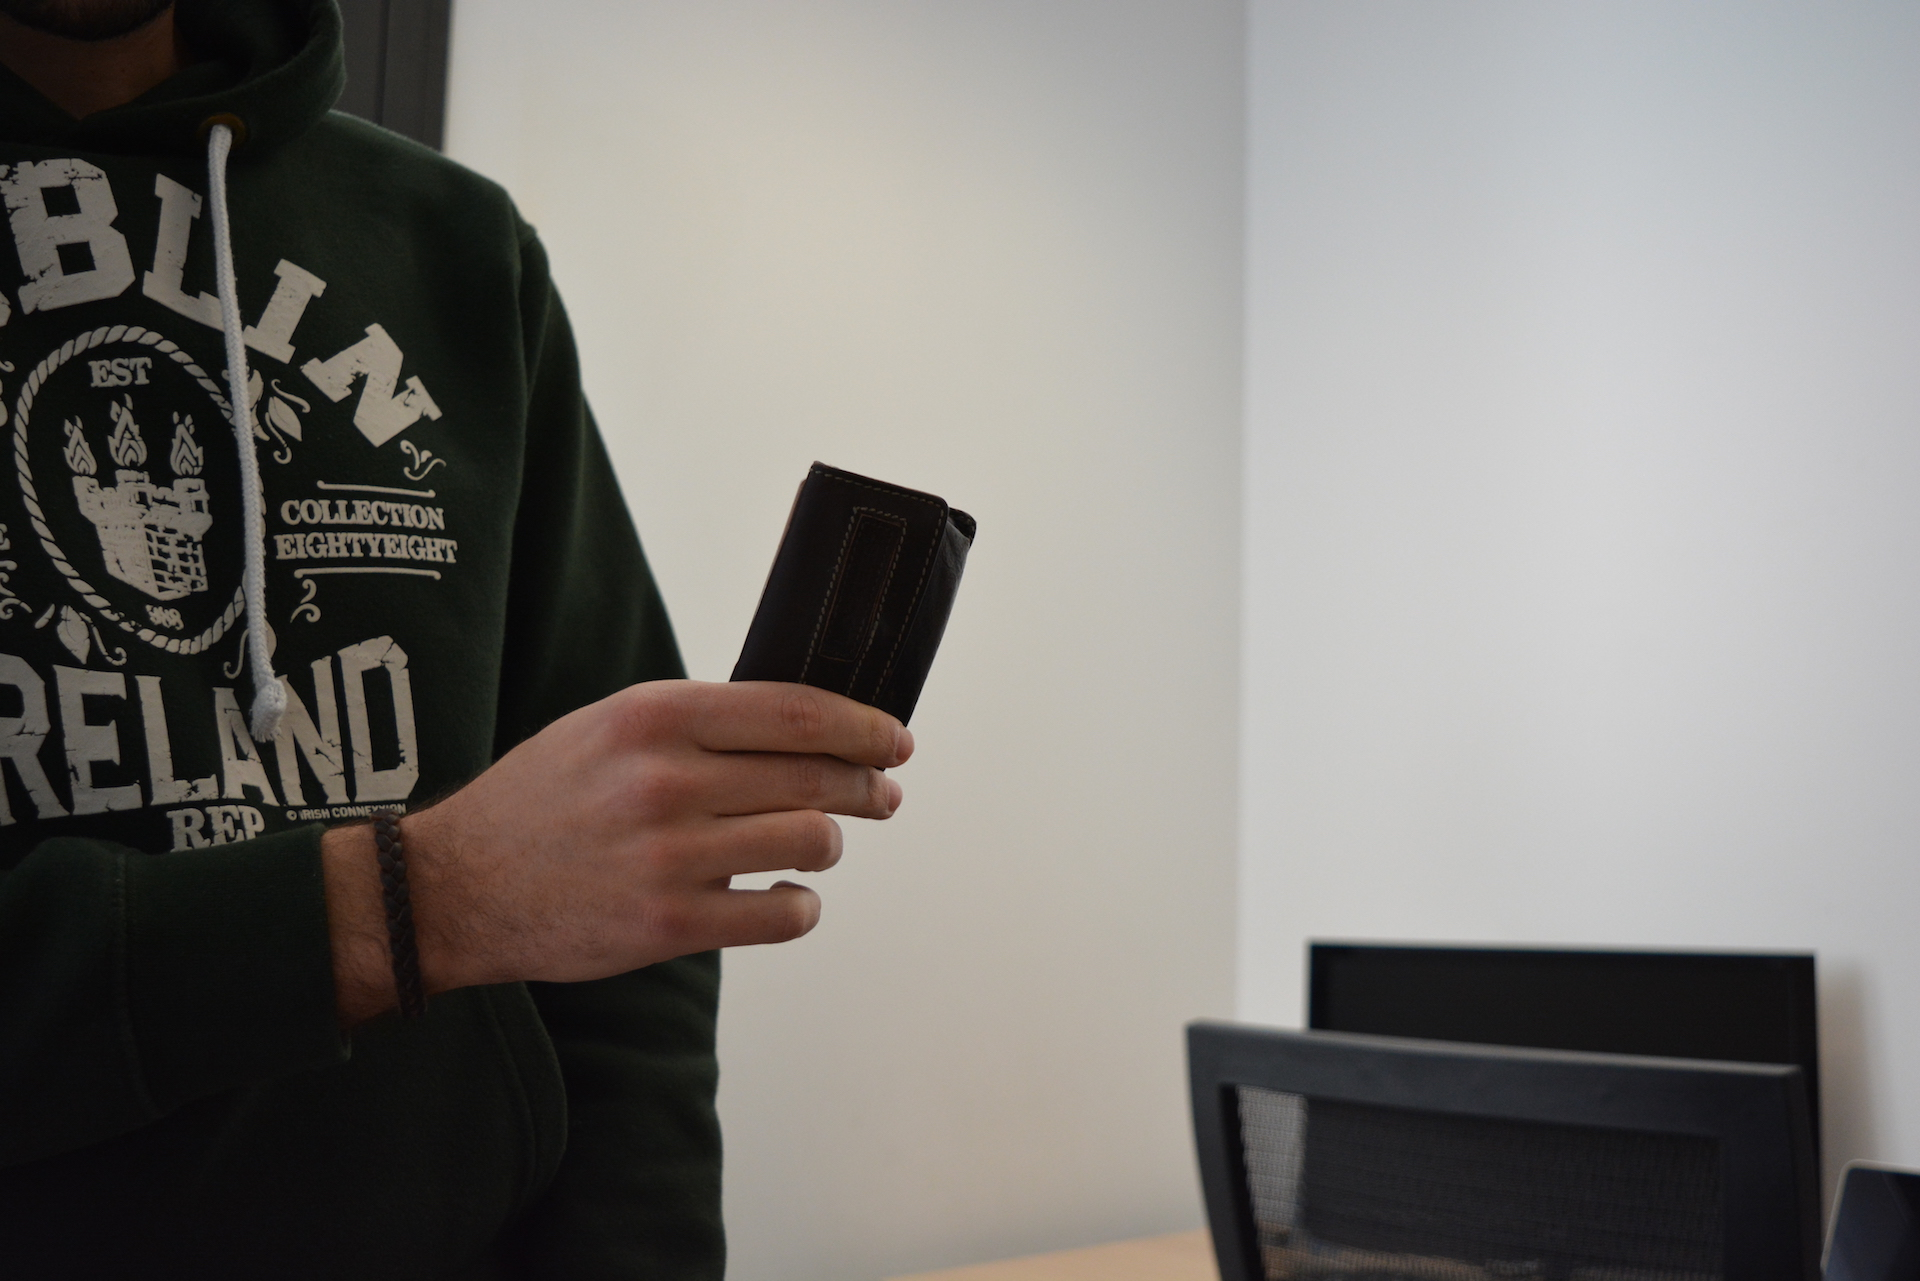monedero: (726, 457, 979, 778)
